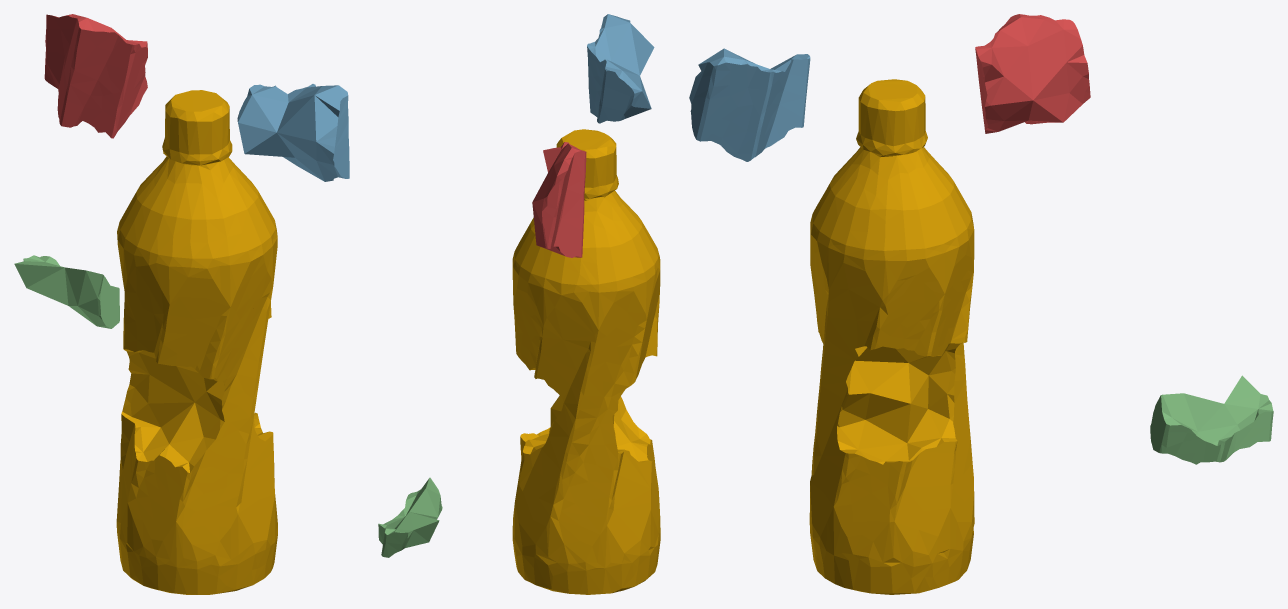
The model's file is mode_9_4pcs_transformed.glb.
3 views of the same model, side by side, from view 1: azimuth 30°, elevation 25°; view 2: azimuth 150°, elevation 25°; view 3: azimuth 270°, elevation 25° (orthographic). The views are drawn at different scales.
Visible parts, largest first — view 1: piece_0.obj, piece_1.obj, piece_2.obj, piece_3.obj; view 2: piece_0.obj, piece_2.obj, piece_1.obj, piece_3.obj; view 3: piece_0.obj, piece_1.obj, piece_2.obj, piece_3.obj.
Boxes of the visible parts, x1=… form: piece_0.obj: x1=116, y1=90, x2=277, y2=594; piece_1.obj: x1=44, y1=14, x2=147, y2=138; piece_2.obj: x1=237, y1=84, x2=349, y2=181; piece_3.obj: x1=14, y1=255, x2=119, y2=328; piece_0.obj: x1=512, y1=129, x2=660, y2=594; piece_2.obj: x1=587, y1=14, x2=654, y2=123; piece_1.obj: x1=532, y1=142, x2=586, y2=257; piece_3.obj: x1=378, y1=477, x2=442, y2=557; piece_0.obj: x1=809, y1=79, x2=974, y2=594; piece_1.obj: x1=975, y1=14, x2=1090, y2=133; piece_2.obj: x1=689, y1=48, x2=810, y2=161; piece_3.obj: x1=1150, y1=375, x2=1273, y2=464.
Size of the model in its own units: 0.3156 by 1.13 by 1.12.
